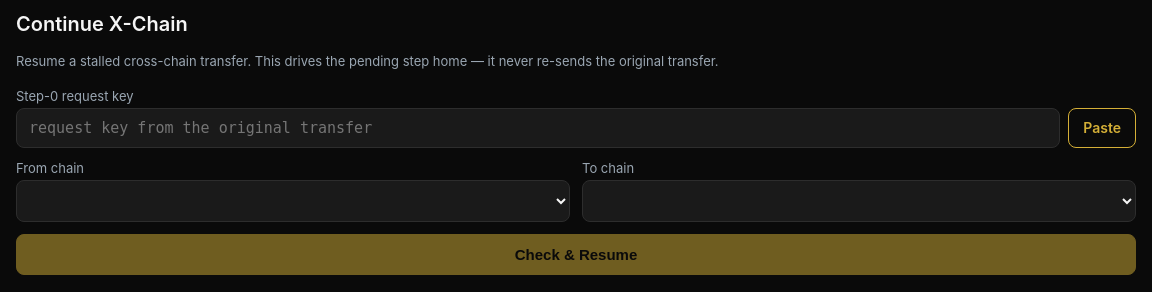
Test: ContinuationRecoveryView › "Check & Resume" is DISABLED when source === target even with a request key
Type "rk-abc" into the field with test id "recovery-request-key" at (538, 128), box [16, 108, 1060, 148]
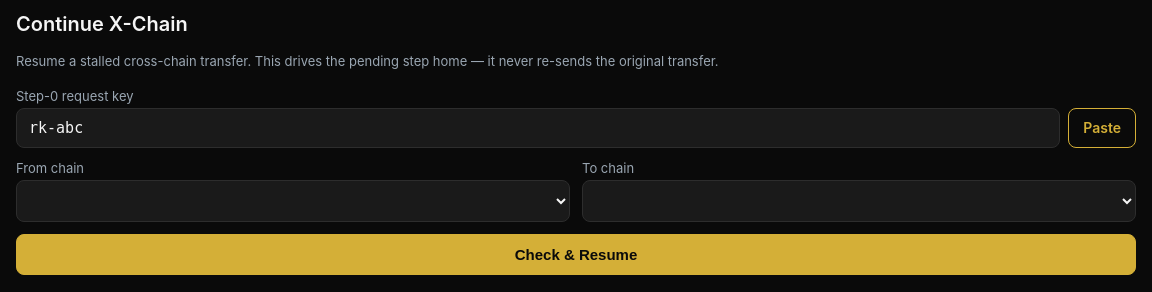
Select "0" in the dropdown with test id "recovery-source" at (293, 200), box [16, 180, 570, 222]
Select "0" in the dropdown with test id "recovery-target" at (859, 200), box [582, 180, 1136, 222]
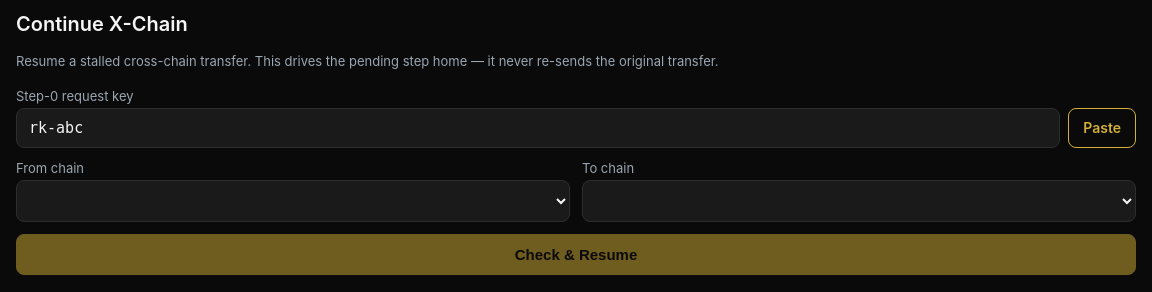
Now the button "Check & Resume" is disabled, box [16, 234, 1136, 274]
